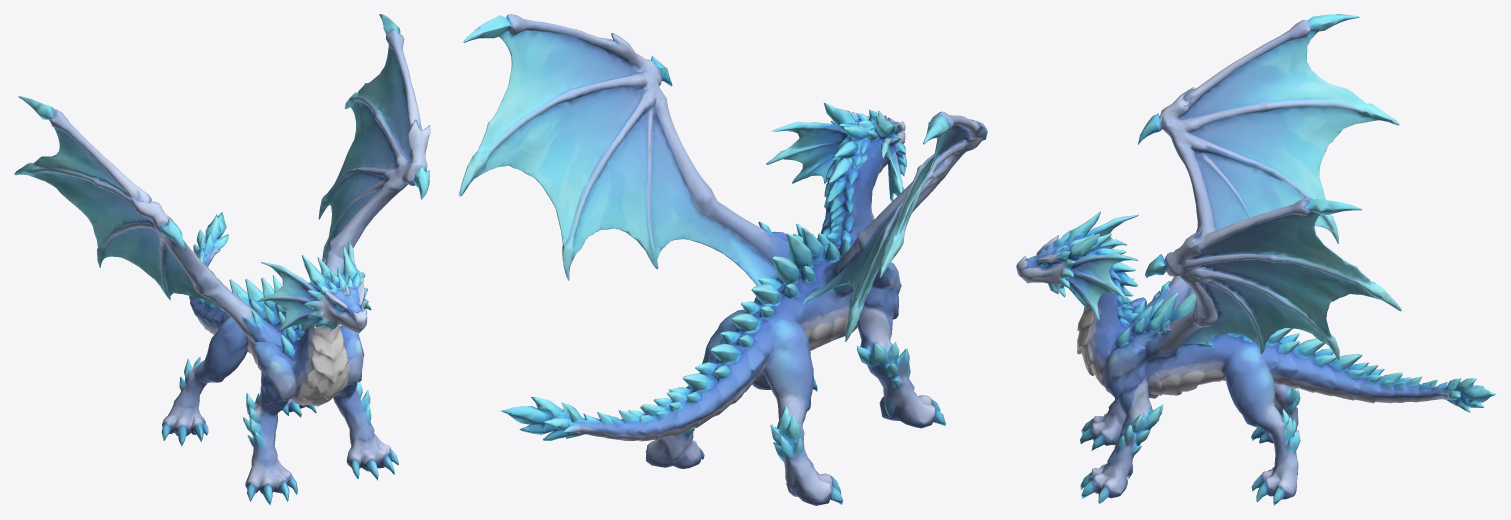
Rendered from frostwyrm_raw.glb.
3 views of the same model, side by side, from view 1: azimuth 30°, elevation 25°; view 2: azimuth 150°, elevation 25°; view 3: azimuth 270°, elevation 25° (orthographic). The views are drawn at different scales.
Parts seen in each view (by area): view 1: tripo_node_71342fda-8d79-4959-ba34-91eb6c85be29; view 2: tripo_node_71342fda-8d79-4959-ba34-91eb6c85be29; view 3: tripo_node_71342fda-8d79-4959-ba34-91eb6c85be29.
Boxes of the visible parts, x1=… form: tripo_node_71342fda-8d79-4959-ba34-91eb6c85be29: x1=14, y1=14, x2=430, y2=505; tripo_node_71342fda-8d79-4959-ba34-91eb6c85be29: x1=459, y1=14, x2=987, y2=505; tripo_node_71342fda-8d79-4959-ba34-91eb6c85be29: x1=1016, y1=14, x2=1496, y2=505.
Bounding box in the file's own units: 0.9159 × 0.8347 × 1.
1 material, 1 textured.
